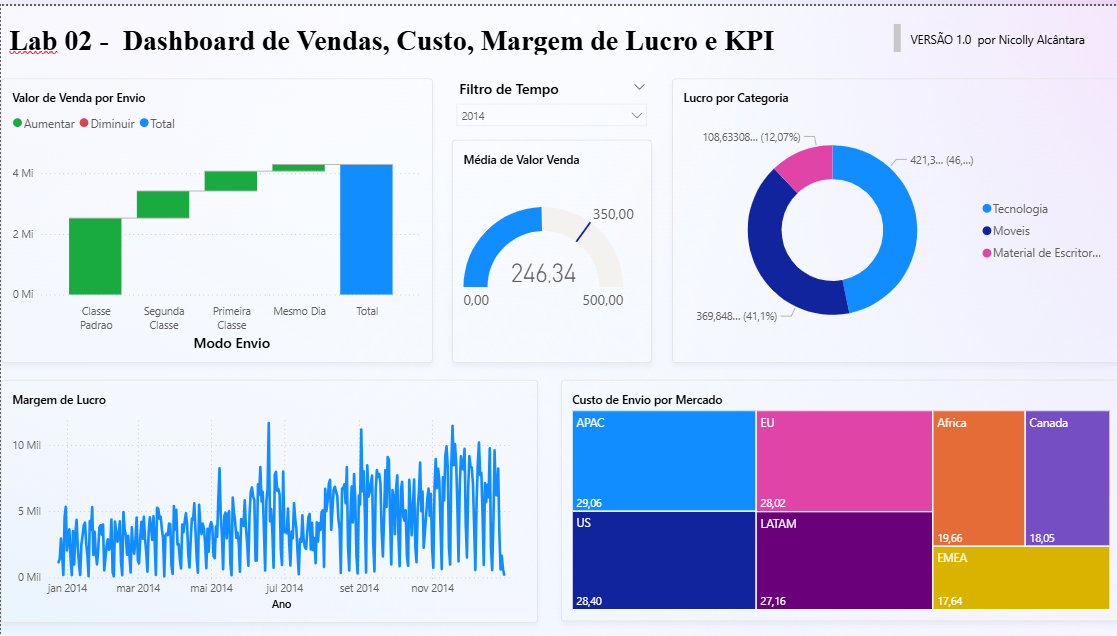

This screenshot's page, from the dashboard's own definition file:
{"tool":"powerbi","page":{"name":"Página 1","canvas":[1280,720],"ordinal":0},"visuals":[{"type":"waterfallChart","title":"Valor de Venda por Envio","fields":{"Category":["Pedidos.Modo Envio"],"Y":["Sum(Vendas.Valor Venda)"]},"box":[0,83.3,493.9,324.7],"z":0},{"type":"treemap","title":"Custo de Envio por Mercado","fields":{"Group":["Clientes.Mercado"],"Values":["Avg(Vendas.Custo Envio)"]},"box":[639.4,426.7,640.6,276.2],"z":1000},{"type":"gauge","fields":{"Y":["Avg(Vendas.Valor Venda)"]},"box":[516.2,153,227.6,255],"z":2000},{"type":"slicer","fields":{"Values":["Pedidos.Data Envio.Variation.Hierarquia de datas.Ano","Pedidos.Data Envio.Variation.Hierarquia de datas.Mês"]},"box":[516.2,83.3,227.6,70.9],"z":3000},{"type":"donutChart","title":" Lucro por Categoria","fields":{"Category":["Produtos.Categoria"],"Y":["Avg(Vendas.Lucro)"]},"box":[767.5,83.3,512.5,324.7],"z":4000},{"type":"lineChart","title":"Margem de Lucro","fields":{"Category":["Pedidos.Data Pedido.Variation.Hierarquia de datas.Ano","Pedidos.Data Pedido.Variation.Hierarquia de datas.Trimestre","Pedidos.Data Pedido.Variation.Hierarquia de datas.Mês","Pedidos.Data Pedido.Variation.Hierarquia de datas.Dia"],"Y":["Sum(Vendas.MargemLucro)"]},"box":[0,426.7,613.3,277.4],"z":5000},{"type":"textbox","box":[5,16.2,1028.8,44.8],"z":6000},{"type":"textbox","box":[1033.7,23.6,231.4,28.6],"z":7000}]}

Visuals, with their boxes in screenshot pixels (x1, y1, x2, y2), scaled from the page's 1280x720 canvas onto the 1117x636 screenshot:
"Valor de Venda por Envio" waterfallChart: 0 74 431 360
"Custo de Envio por Mercado" treemap: 558 377 1116 621
gauge - Avg(Vendas.Valor Venda): 450 135 649 360
slicer - Pedidos.Data Envio.Variation.Hierarquia de datas.Ano x Pedidos.Data Envio.Variation.Hierarquia de datas.Mês: 450 74 649 136
" Lucro por Categoria" donutChart: 670 74 1116 360
"Margem de Lucro" lineChart: 0 377 535 622
textbox: 4 14 902 54
textbox: 902 21 1104 46
